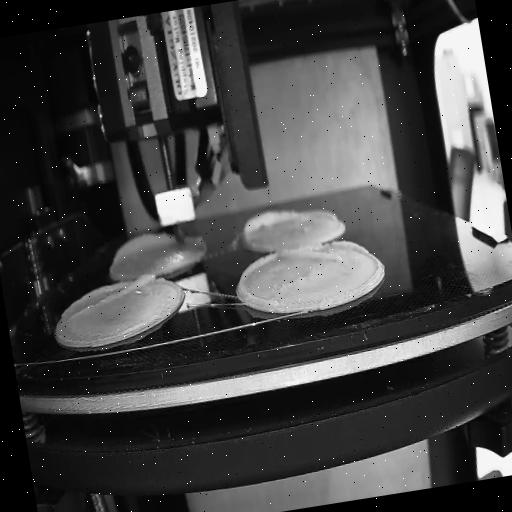over_extrusion: (64, 272, 159, 322), (280, 234, 370, 272), (234, 251, 286, 311), (238, 208, 302, 242), (110, 231, 175, 263), (304, 204, 340, 229)
